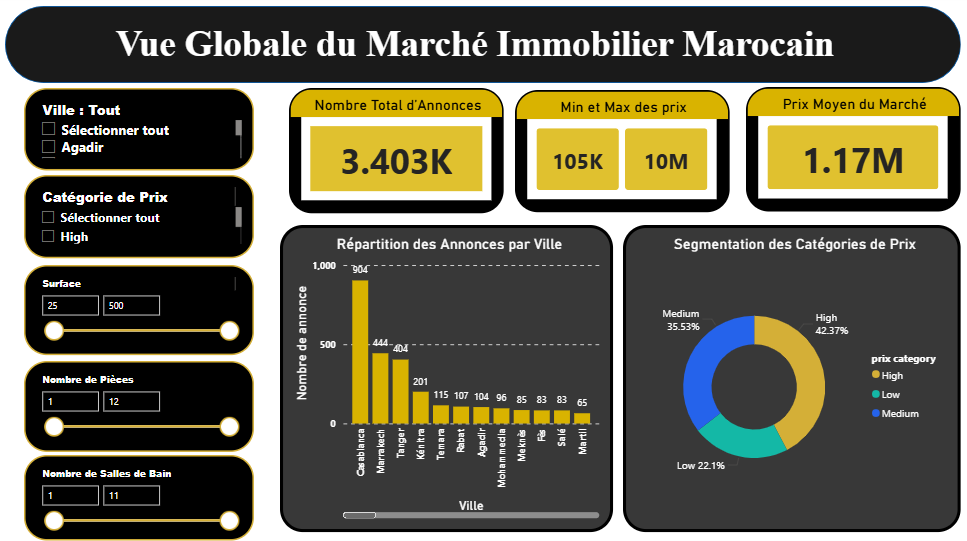

Layout of this report page (visuals, bound fields, positions):
{"tool":"powerbi","page":{"name":"Page 1","canvas":[1280,720],"ordinal":0},"visuals":[{"type":"shape","box":[14.4,14.4,1251.4,100.8],"z":0},{"type":"textbox","box":[60.5,31.9,1138.9,67.2],"z":1000},{"type":"cardVisual","title":"Nombre Total d’Annonces","fields":{"Data":["CountNonNull(bi_schema fact_annonce.annonce_id)"]},"box":[386.2,121.7,281.5,163.6],"z":2000},{"type":"cardVisual","title":"Prix Moyen du Marché","fields":{"Data":["Avg(bi_schema fact_annonce.price)"]},"box":[985,121,280.8,162.7],"z":3000},{"type":"cardVisual","title":"Min et Max des prix","fields":{"Data":["Min(bi_schema fact_annonce.price)","Max(bi_schema fact_annonce.price)"]},"box":[682.6,123.8,280.8,159.8],"z":4000},{"type":"columnChart","title":"Répartition des Annonces par Ville","fields":{"Category":["bi_schema dim_location.city"],"Y":["CountNonNull(bi_schema fact_annonce.annonce_id)"]},"box":[374.4,301.1,435.9,401.9],"z":5000},{"type":"donutChart","title":"Segmentation des Catégories de Prix","fields":{"Y":["CountNonNull(bi_schema fact_annonce.price)"],"Series":["bi_schema dim_price_category.price_category"]},"box":[823.4,301.1,442.5,401.9],"z":6000},{"type":"slicer","fields":{"Values":["bi_schema dim_location.city"]},"box":[38.8,121.2,301.2,107.6],"z":7000},{"type":"slicer","fields":{"Values":["bi_schema dim_price_category.price_category"]},"box":[38.8,235.3,301.2,109.4],"z":8000},{"type":"slicer","fields":{"Values":["bi_schema fact_annonce.surface"]},"box":[38.8,352.9,301.2,118.2],"z":9000},{"type":"slicer","fields":{"Values":["bi_schema fact_annonce.rooms"]},"box":[38.8,478.8,301.2,119.4],"z":10000},{"type":"slicer","fields":{"Values":["bi_schema fact_annonce.baths"]},"box":[38.8,602.4,301.2,112.4],"z":11000}]}

Visuals, with their boxes in screenshot pixels (x1, y1, x2, y2), scaled from the page's 1280x720 canvas onto the 967x541 screenshot:
shape: left=11, top=11, right=956, bottom=87
textbox: left=46, top=24, right=906, bottom=74
"Nombre Total d’Annonces" cardVisual: left=292, top=91, right=504, bottom=214
"Prix Moyen du Marché" cardVisual: left=744, top=91, right=956, bottom=213
"Min et Max des prix" cardVisual: left=516, top=93, right=728, bottom=213
"Répartition des Annonces par Ville" columnChart: left=283, top=226, right=612, bottom=528
"Segmentation des Catégories de Prix" donutChart: left=622, top=226, right=956, bottom=528
slicer - bi_schema dim_location.city: left=29, top=91, right=257, bottom=172
slicer - bi_schema dim_price_category.price_category: left=29, top=177, right=257, bottom=259
slicer - bi_schema fact_annonce.surface: left=29, top=265, right=257, bottom=354
slicer - bi_schema fact_annonce.rooms: left=29, top=360, right=257, bottom=449
slicer - bi_schema fact_annonce.baths: left=29, top=453, right=257, bottom=537
